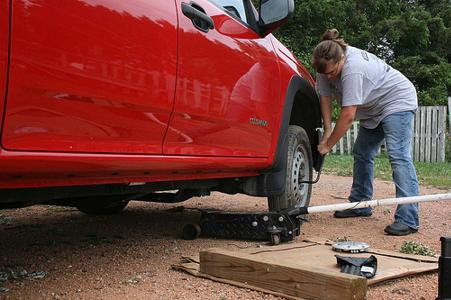person: (312, 34, 423, 239)
